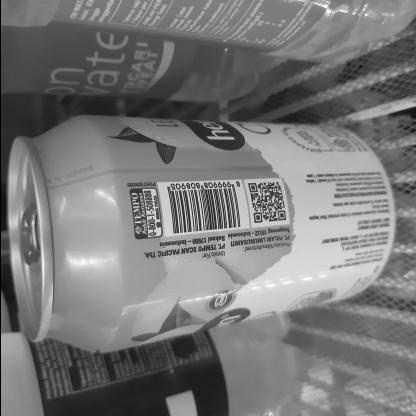alumunium_can: (0, 107, 409, 356)
